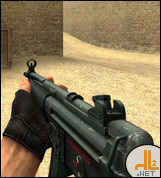rifle: (25, 59, 141, 142)
rifle in hand: (8, 46, 141, 173)
